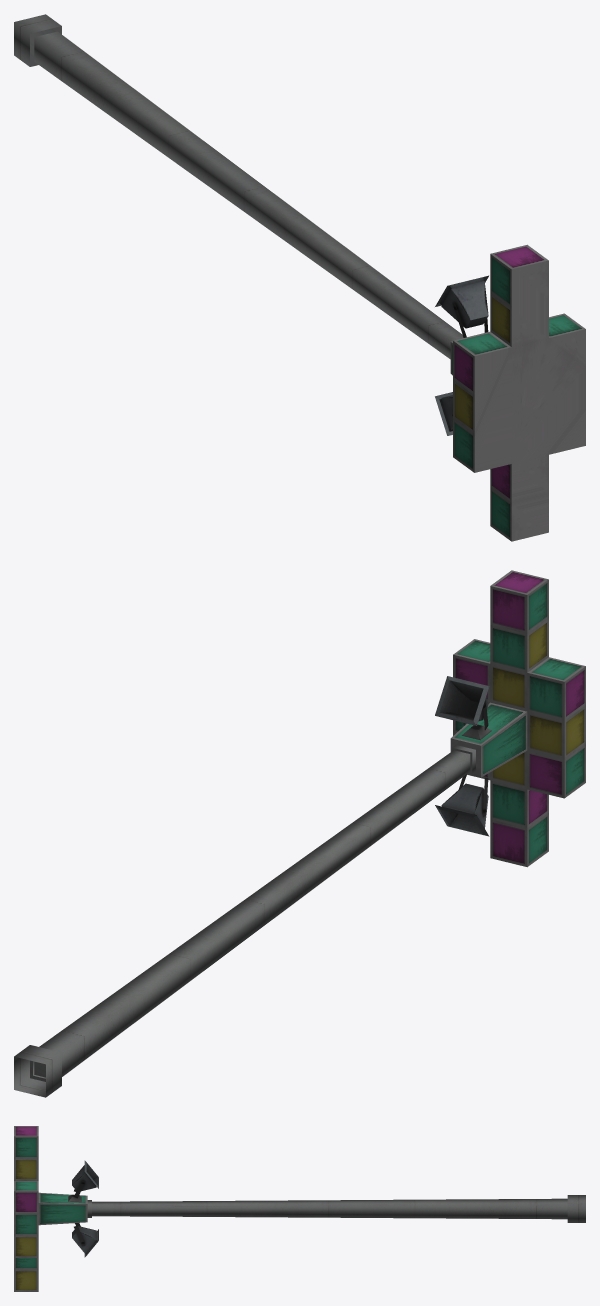
The model's file is nt_2020_vista_streetlight_01_LOD1.obj.
3 views of the same model, one above another, from view 1: azimuth 30°, elevation 25°; view 2: azimuth 150°, elevation 25°; view 3: azimuth 270°, elevation 25° (orthographic). The views are drawn at different scales.
Visible parts, largest first — view 1: mtl_nt_2020_vista_streetlight_01; view 2: mtl_nt_2020_vista_streetlight_01; view 3: mtl_nt_2020_vista_streetlight_01.
Part boxes in pixels (x1,y1,x2,y2): mtl_nt_2020_vista_streetlight_01: (14,14,585,541); mtl_nt_2020_vista_streetlight_01: (14,570,585,1097); mtl_nt_2020_vista_streetlight_01: (14,1126,585,1291).
Bounding box in the file's own units: 113 × 264 × 880.
